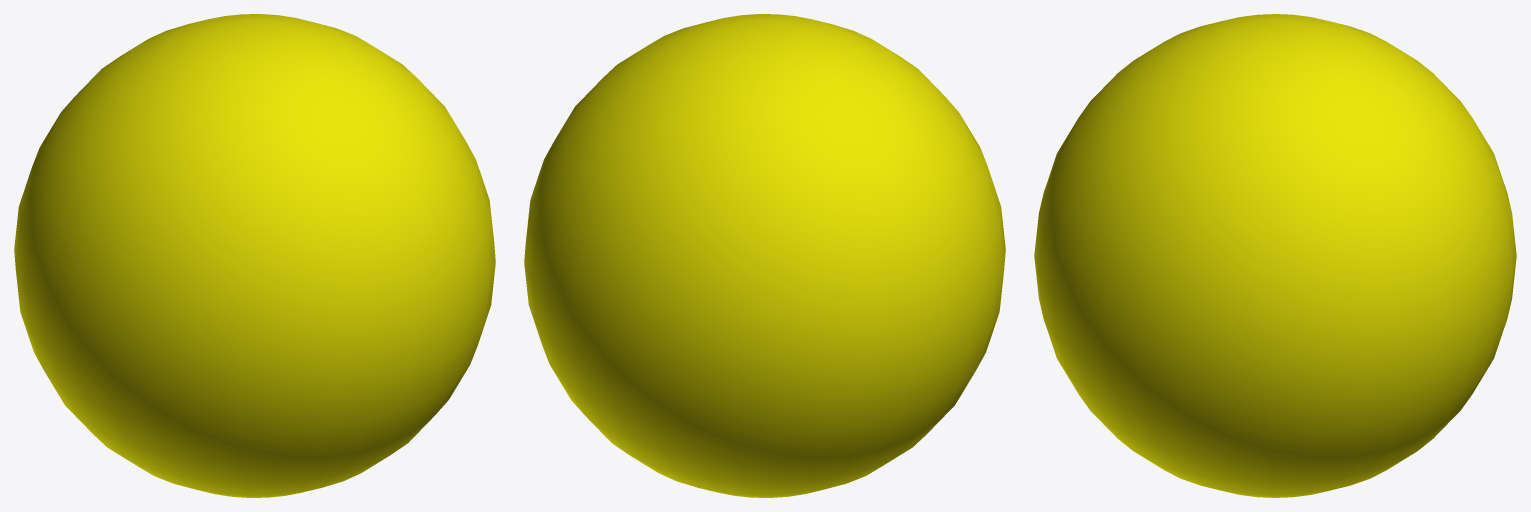
The model's file is yellow.fbx.
The picture shows the model from 3 angles, left to right: view 1: azimuth 30°, elevation 25°; view 2: azimuth 150°, elevation 25°; view 3: azimuth 270°, elevation 25°; orthographic projection.
Parts seen in each view (by area): view 1: Sphere; view 2: Sphere; view 3: Sphere.
Boxes of the visible parts, x1,y1,x2,y2 form: Sphere: (14, 14, 495, 497); Sphere: (524, 14, 1005, 497); Sphere: (1034, 14, 1516, 497).
Size of the model in its own units: 99.04 by 99.04 by 99.04.
